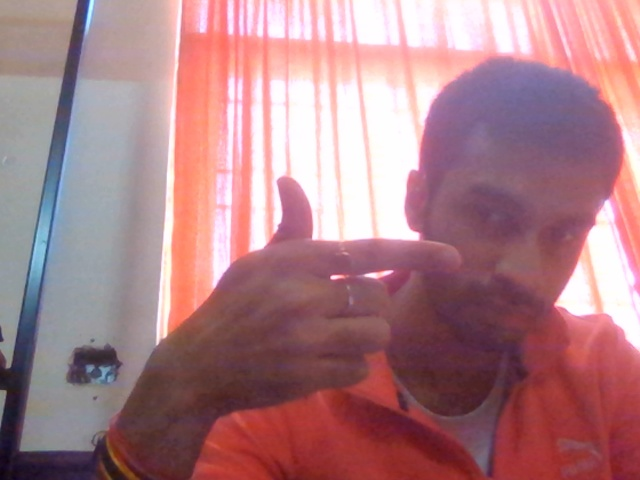G: (71, 167, 478, 457)
